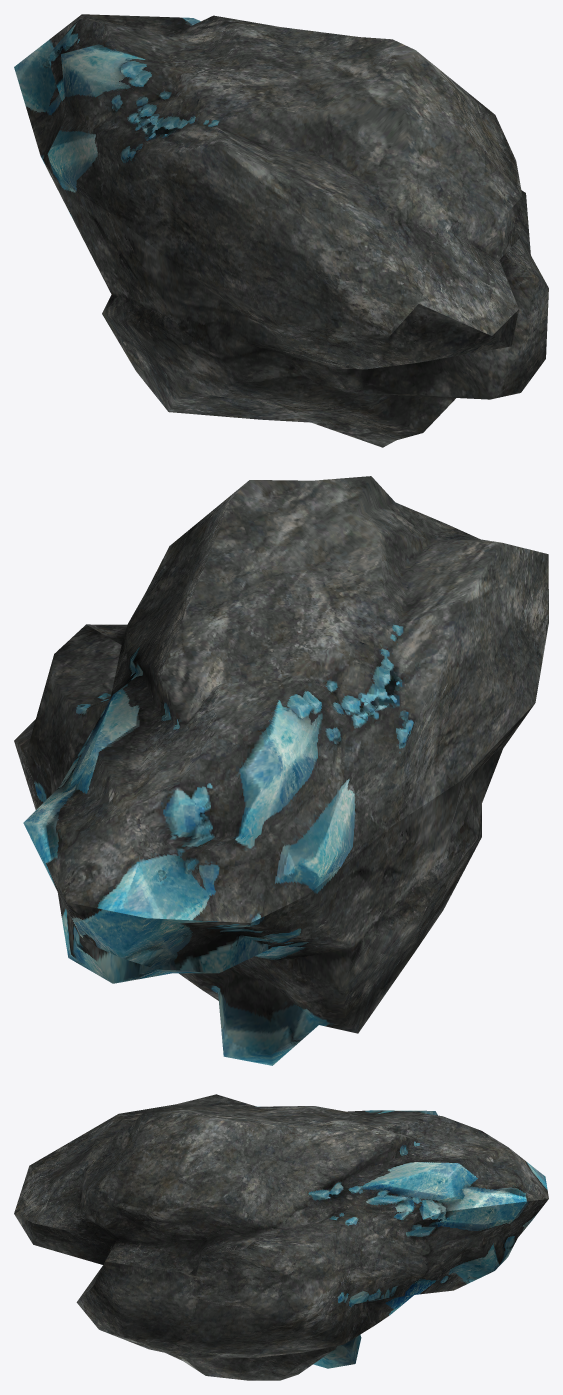
Rendered from shuijing003.FBX.
3 views of the same model, one above another, from view 1: azimuth 30°, elevation 25°; view 2: azimuth 150°, elevation 25°; view 3: azimuth 270°, elevation 25° (orthographic). The views are drawn at different scales.
Parts seen in each view (by area): view 1: Stone_001_06; view 2: Stone_001_06; view 3: Stone_001_06.
Part boxes in pixels (<box>): Stone_001_06: <box>14,14,548,447</box>; Stone_001_06: <box>14,476,548,1065</box>; Stone_001_06: <box>14,1094,548,1380</box>.
Bounding box in the file's own units: 139 × 156 × 271.
1 material, 1 textured.
